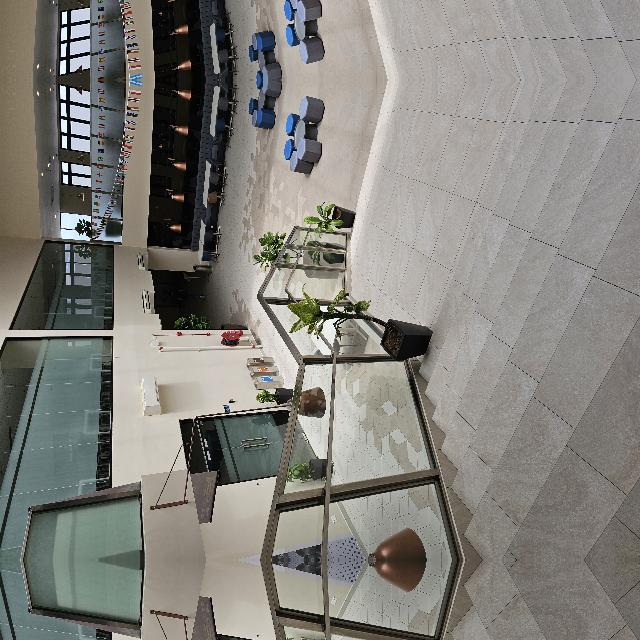obstacle: (197, 456, 243, 512), (197, 607, 243, 640)
